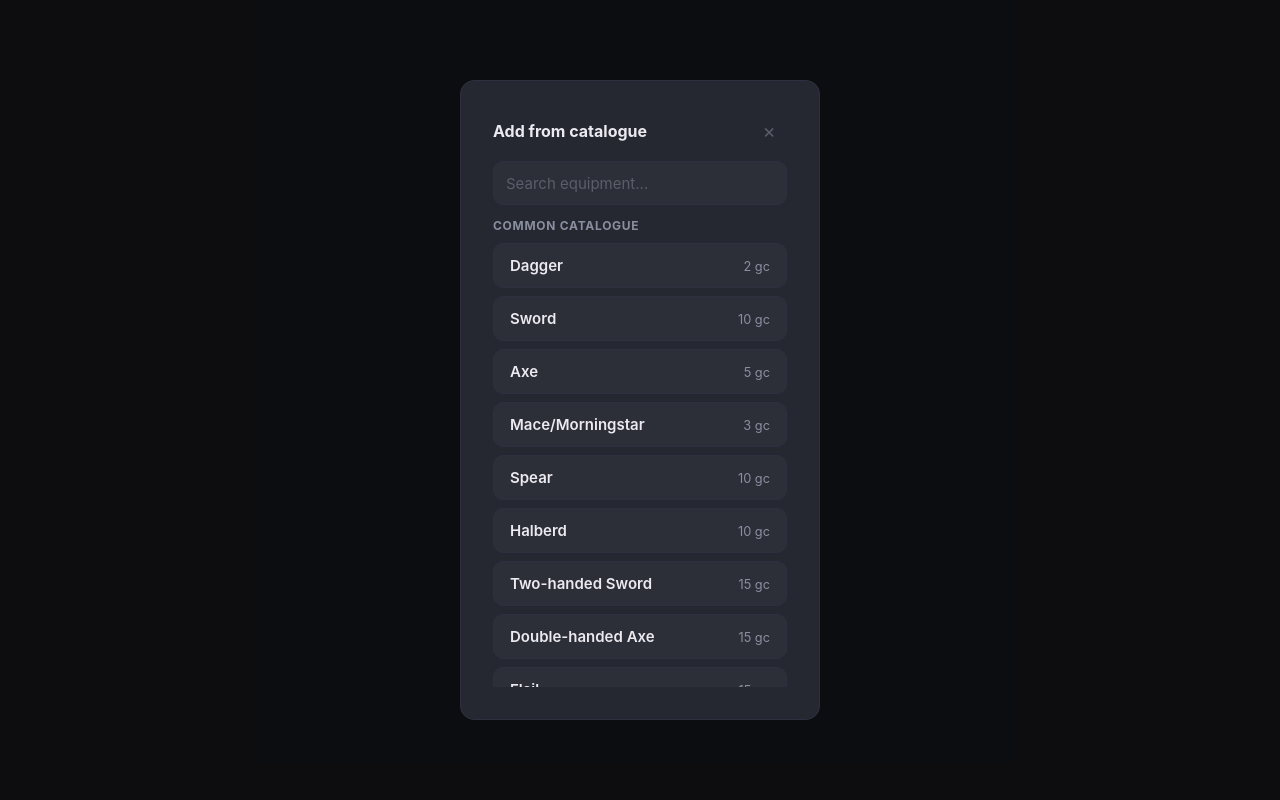
EquipmentPicker › search filtering › clearing search restores all items
Type "sword" into the field labelled "Search equipment...".
click(640, 183); type("sword")  # box [493, 161, 787, 205]
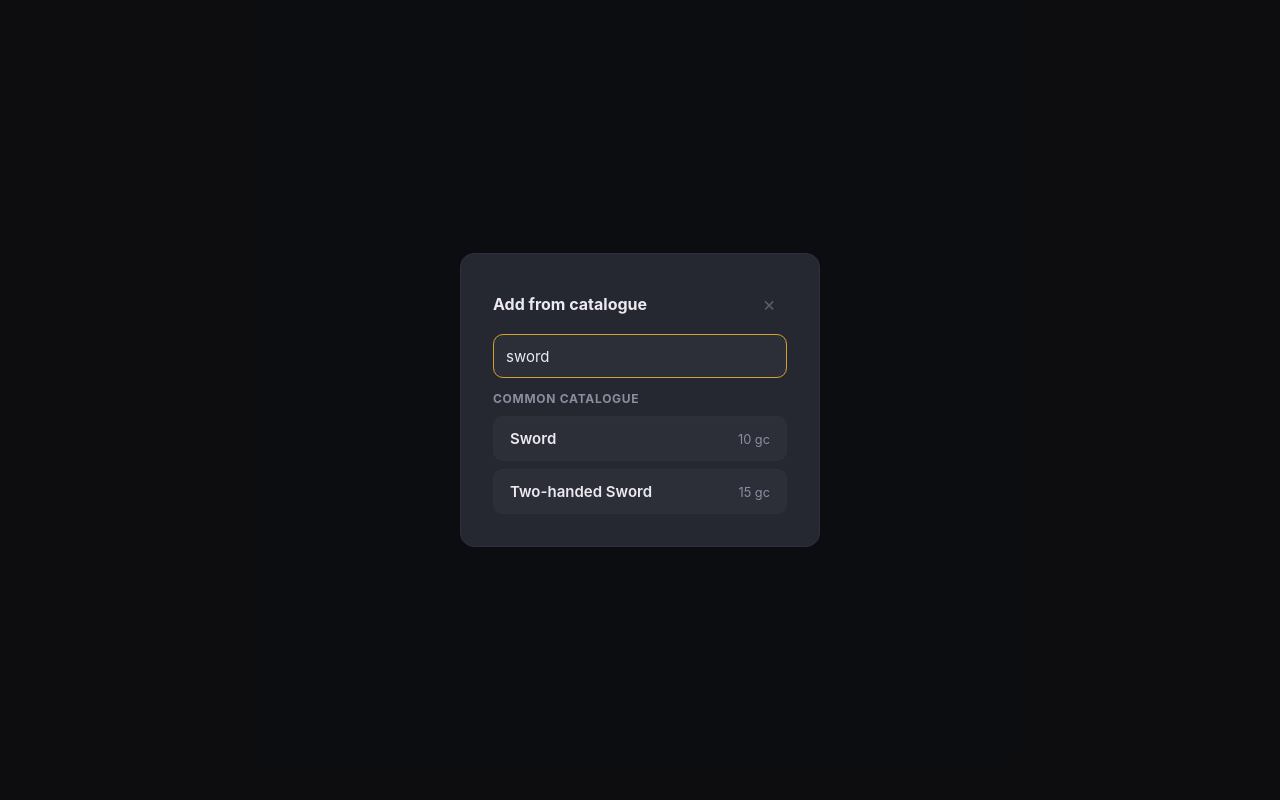
Clear the field named "Search equipment" at (640, 356), box [493, 334, 787, 378]
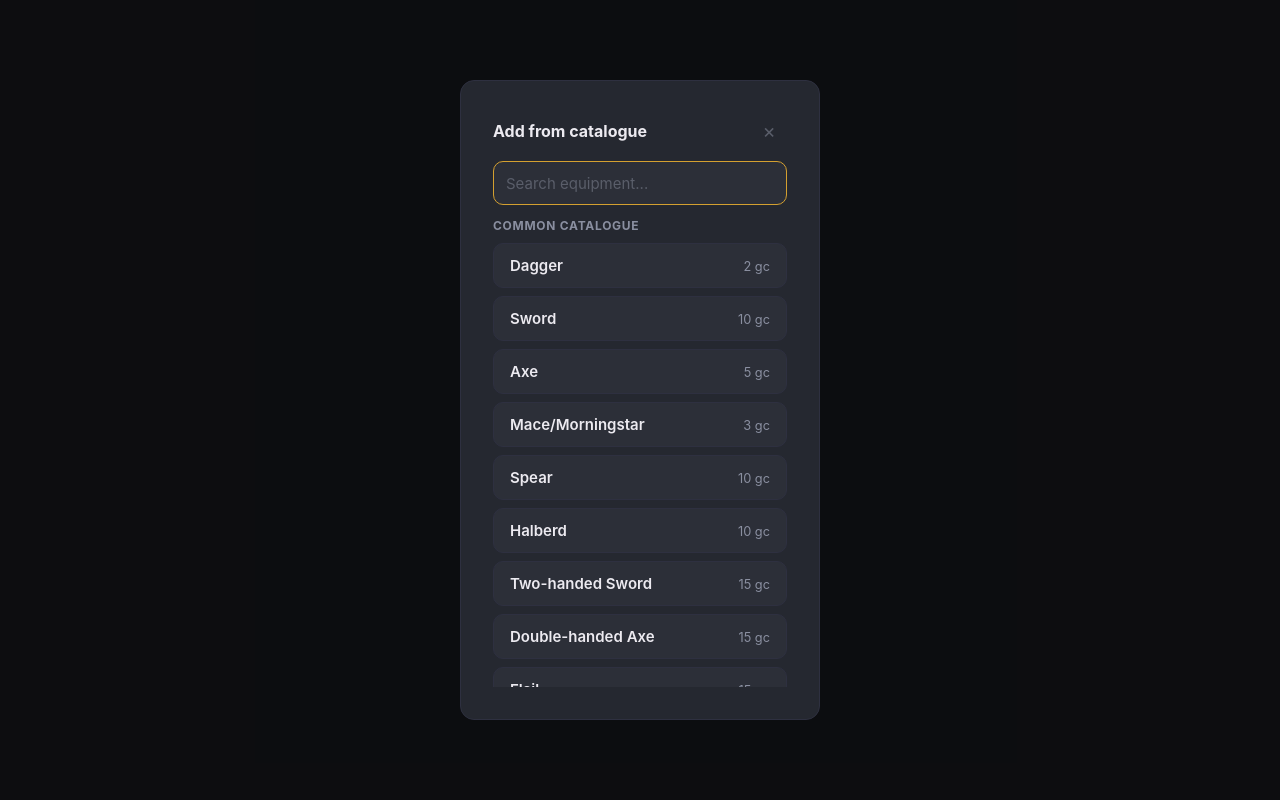
Now the button "Dagger 2 gc" is shown, box [493, 243, 787, 288]
